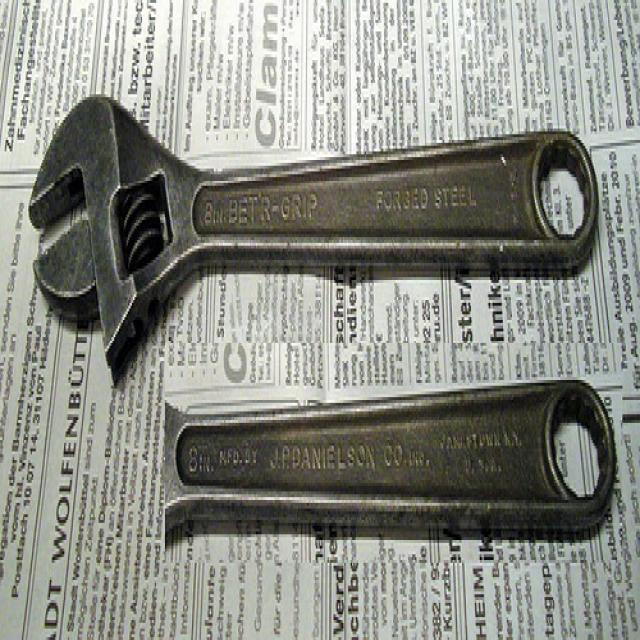wrench: (24, 82, 608, 378), (150, 373, 620, 558)
